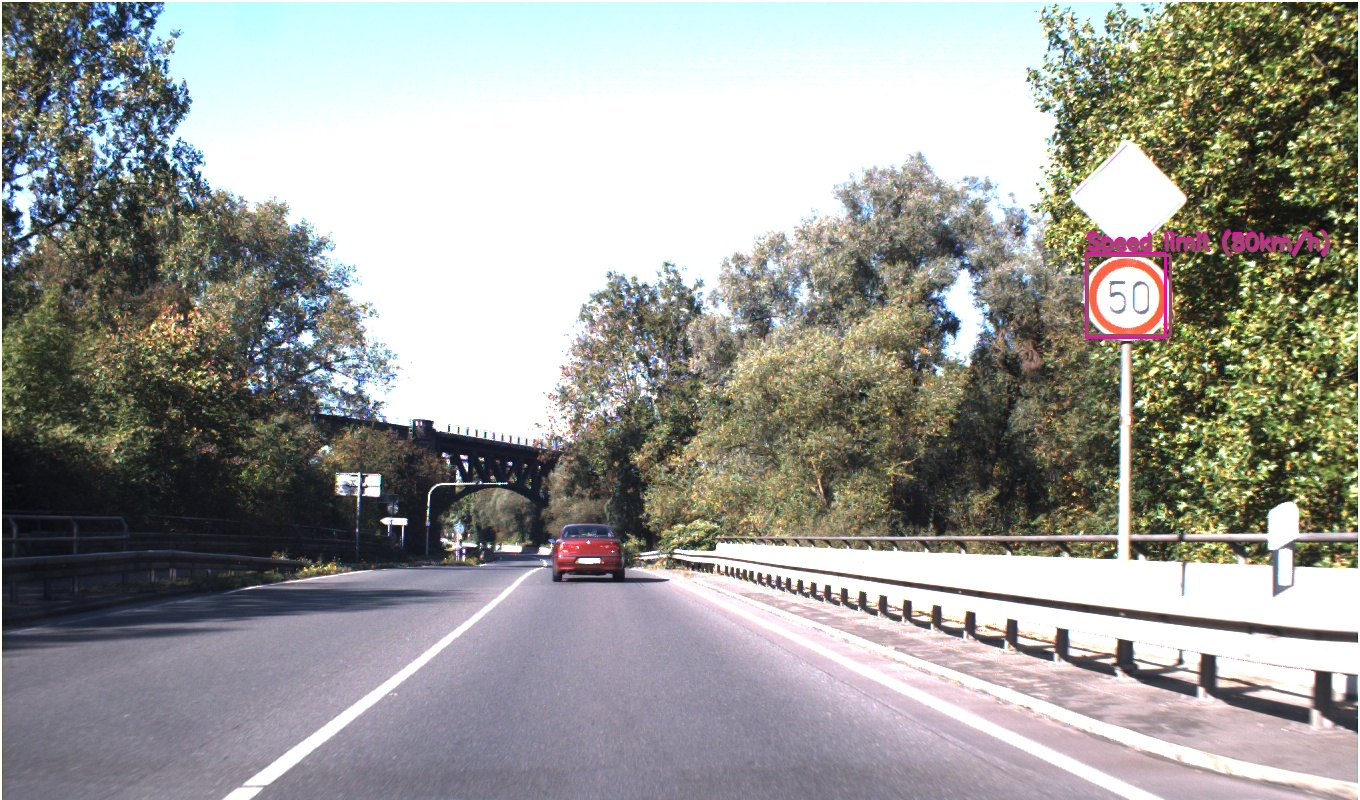Yield: (849, 458, 872, 479)
